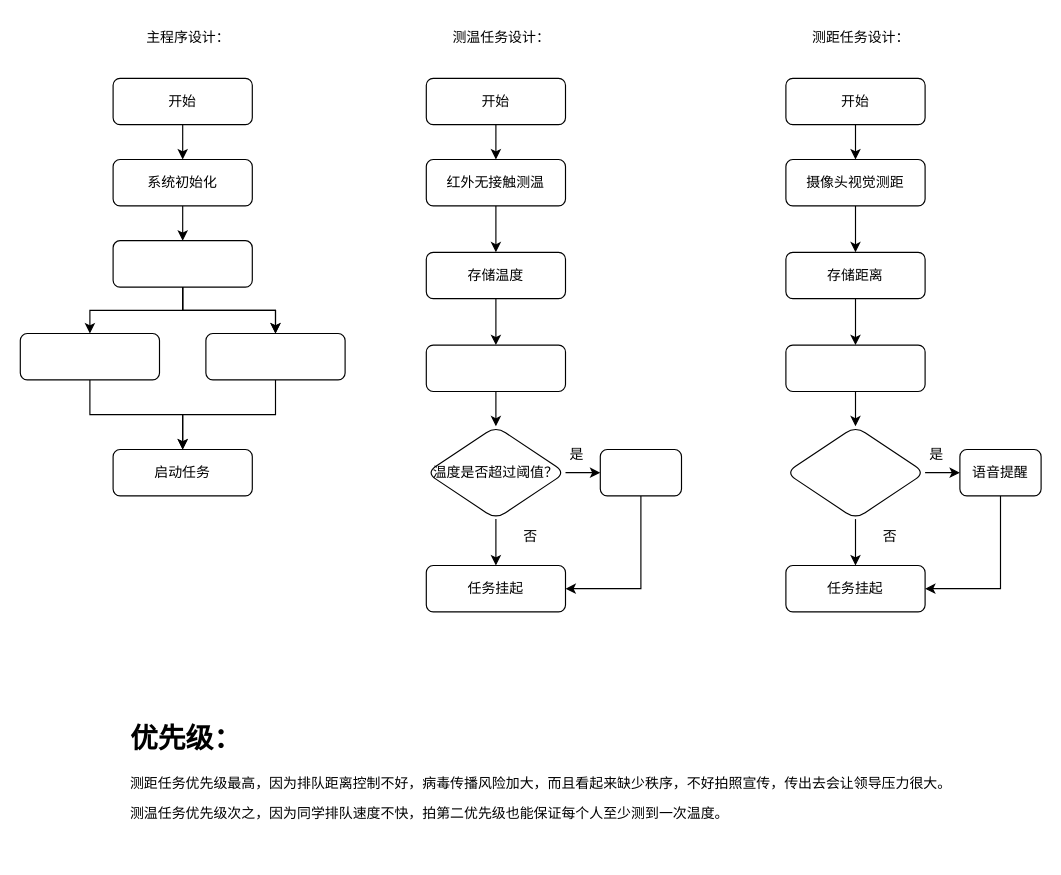
The diagram is 1061 pixels wide and 875 high, and some of its shapes have lost their labels. The centre of each missing label's shape, as x and y in pixels:
创建任务: point 182,263
报警: point 640,472
显示温度: point 495,368
显示距离: point 855,368
测温任务: point 89,356
测距任务: point 275,356
距离是否小于阈值？: point 855,472
